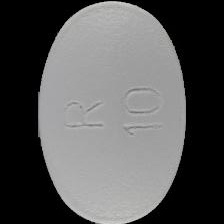43598-166: (0, 0, 224, 224)
